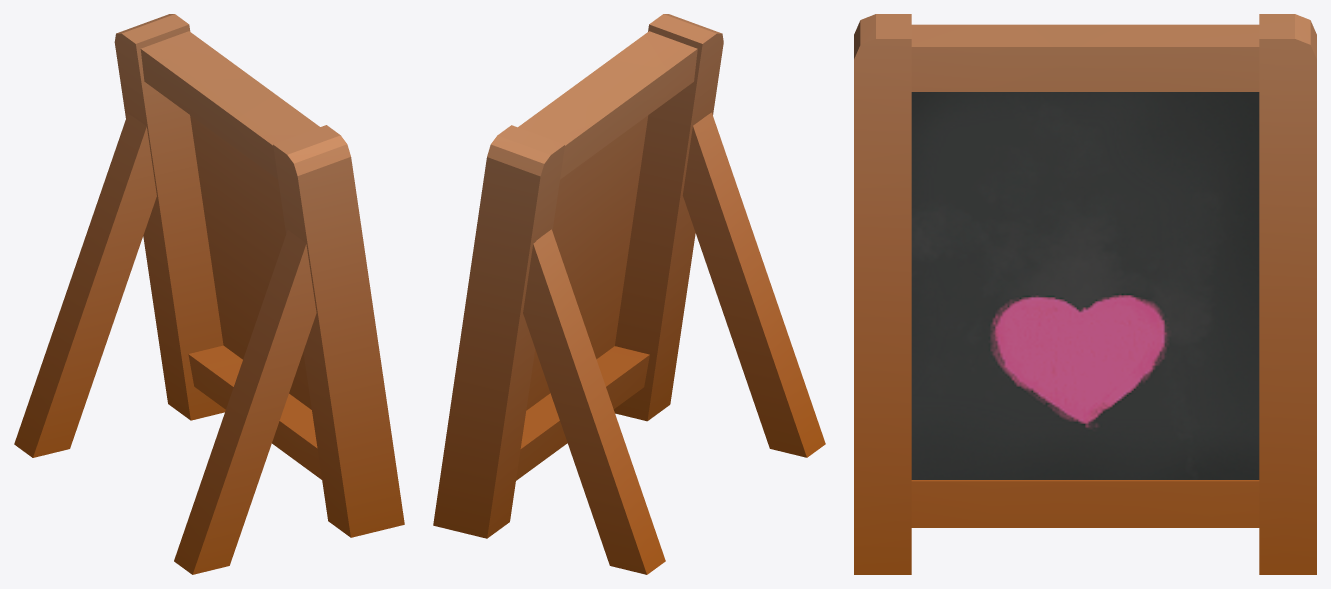
Rendered from Mdl_Sign.fbx.
3 views of the same model, side by side, from view 1: azimuth 30°, elevation 25°; view 2: azimuth 150°, elevation 25°; view 3: azimuth 270°, elevation 25° (orthographic). The views are drawn at different scales.
Visible parts, largest first — view 1: Mesh_Sign; view 2: Mesh_Sign; view 3: Mesh_Sign.
Part boxes in pixels (x1=…): Mesh_Sign: x1=14, y1=14, x2=404, y2=574; Mesh_Sign: x1=433, y1=14, x2=825, y2=574; Mesh_Sign: x1=854, y1=14, x2=1316, y2=574.
Bounding box in the file's own units: 125 × 226 × 189.
